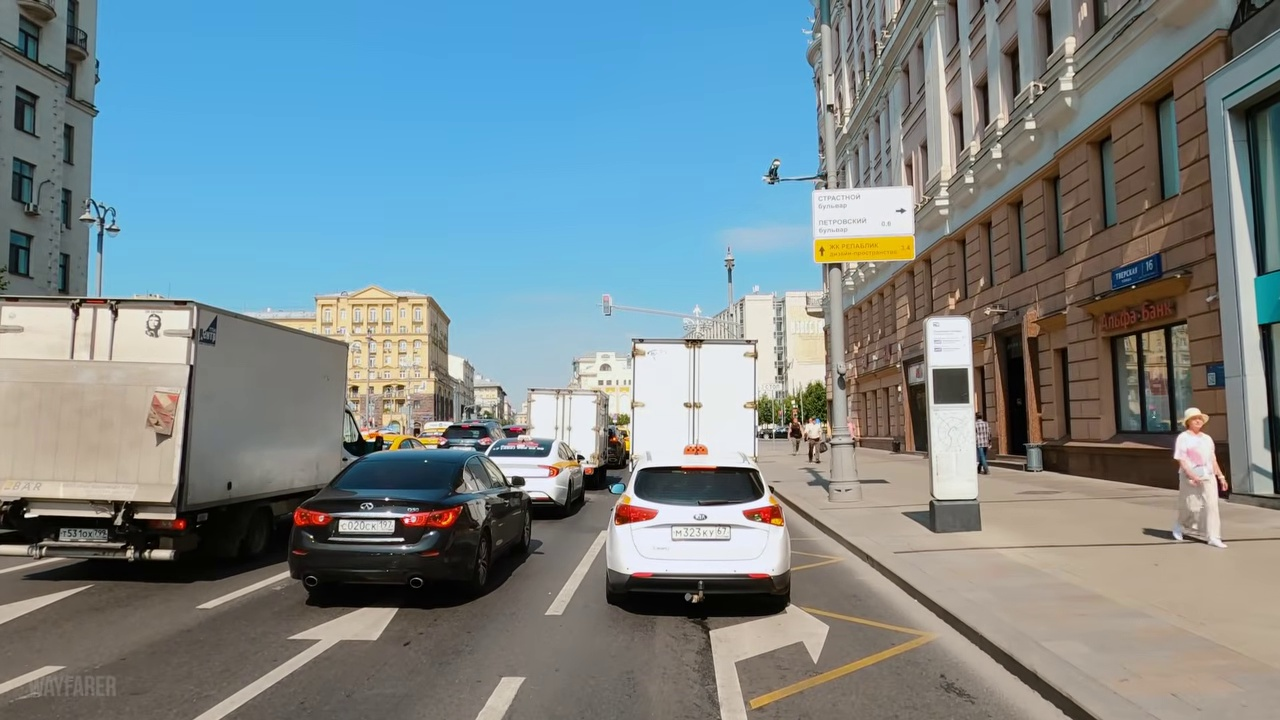apagada: (77, 201, 124, 238)
